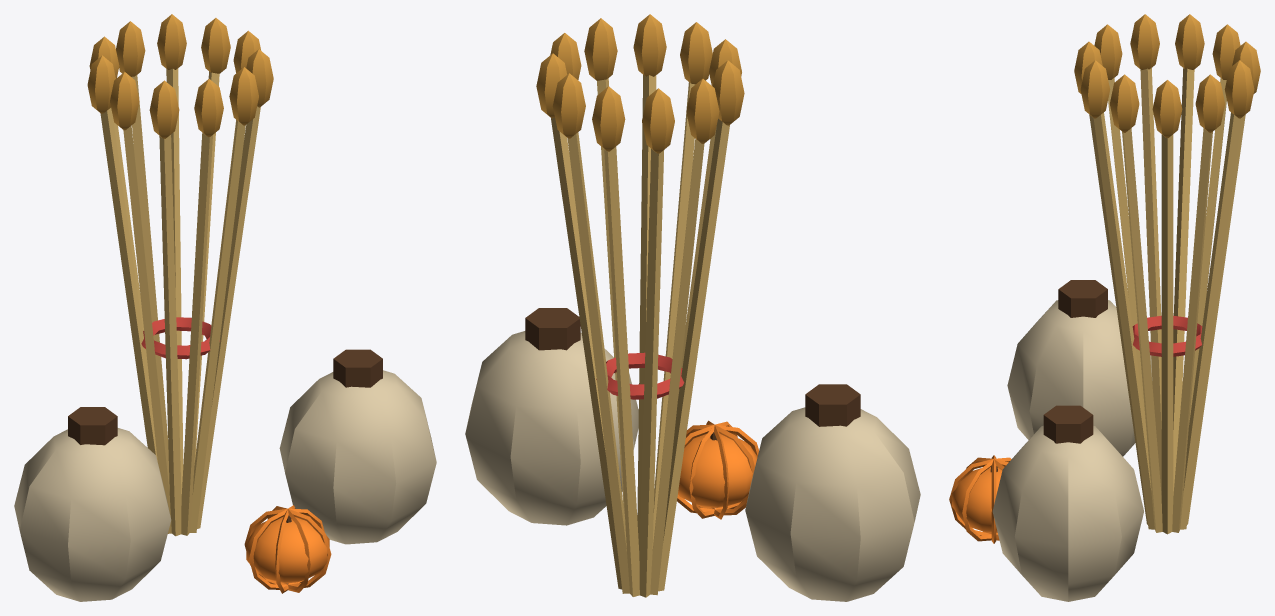
Rendered from PR_Decor_BasakDemeti.fbx.
The picture shows the model from 3 angles, left to right: view 1: azimuth 30°, elevation 25°; view 2: azimuth 150°, elevation 25°; view 3: azimuth 270°, elevation 25°; orthographic projection. The views are drawn at different scales.
Visible parts, largest first — view 1: PR_Decor_BasakDemeti; view 2: PR_Decor_BasakDemeti; view 3: PR_Decor_BasakDemeti.
Part boxes in pixels (box(x1,y1,x2,y2)): PR_Decor_BasakDemeti: box(14, 14, 436, 601); PR_Decor_BasakDemeti: box(465, 14, 920, 601); PR_Decor_BasakDemeti: box(949, 14, 1260, 601).
Size of the model in its own units: 0.94 by 1.08 by 0.629.
